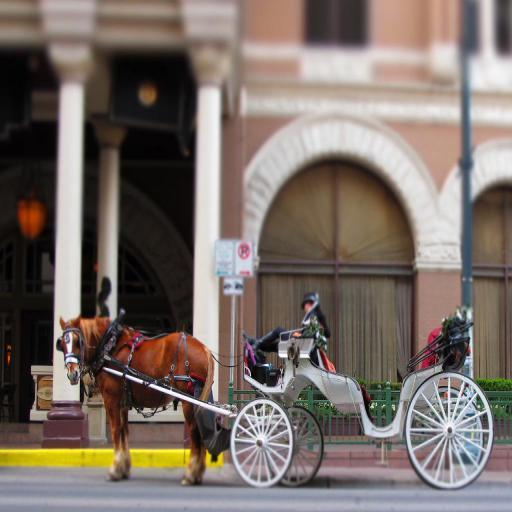horse: (59, 313, 217, 488)
